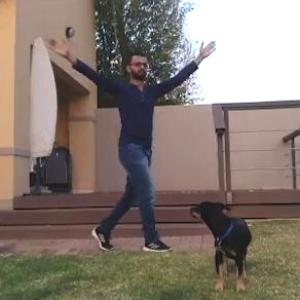takeoff: (45, 35, 223, 254)
